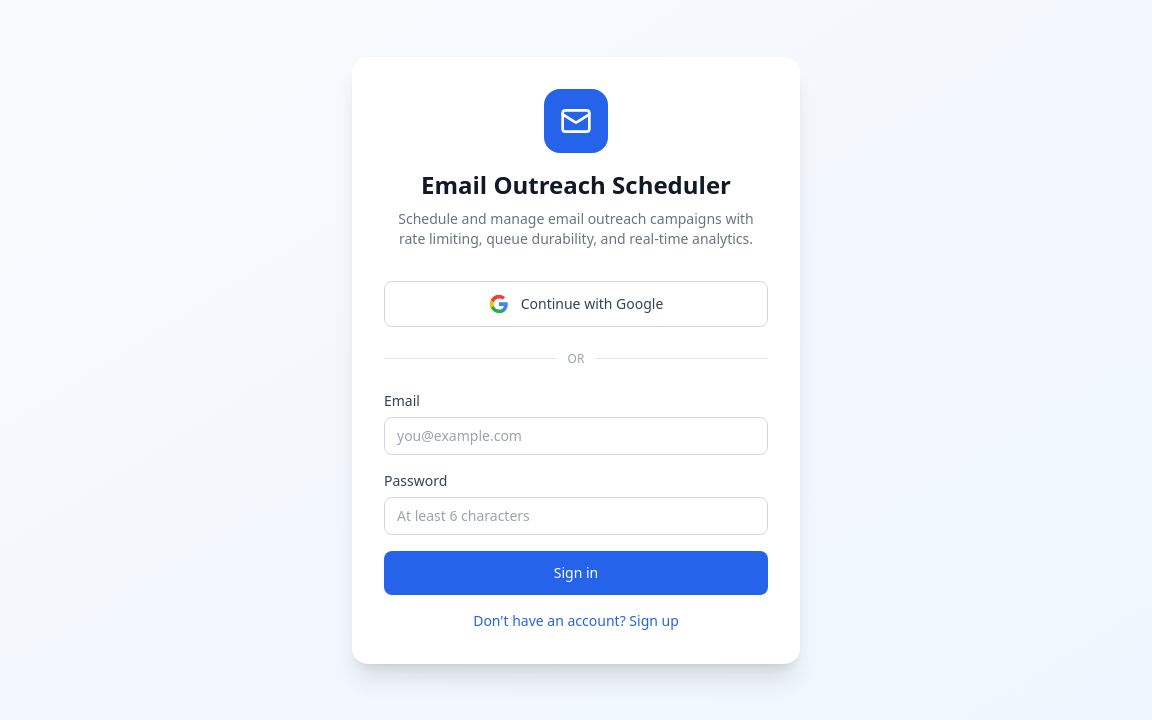
Test case: LoginPage › shows an error when Google sign-in throws
What coordinates should you click on to do the following:
click the button "Continue with Google"
I would click on:
 (576, 304)
Its box is [384, 280, 768, 326].
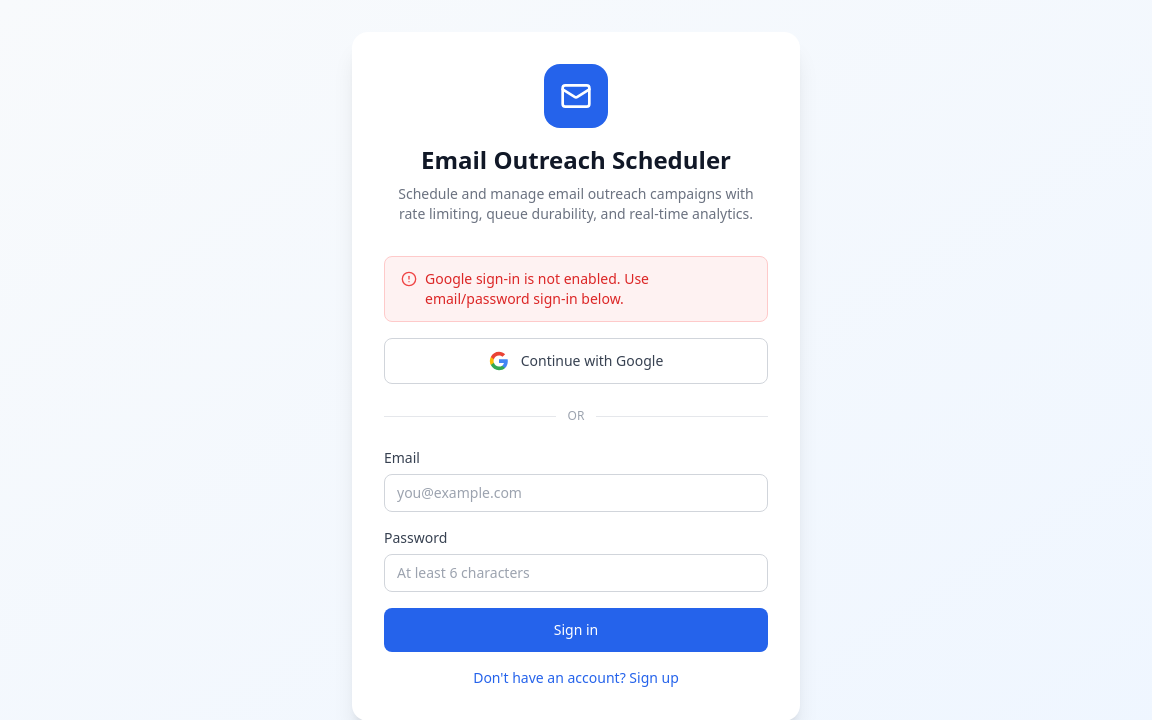
Expected: the text "Google sign-in is not enabled" is shown, [425, 269, 649, 308]
